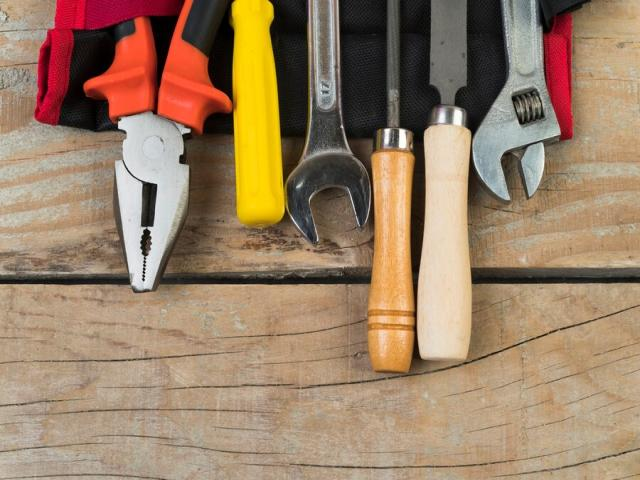Adjustable spanner: (472, 0, 560, 202)
Pliers: (84, 0, 232, 292)
Screwdriver: (230, 0, 285, 226)
Wrench: (285, 0, 371, 243)
